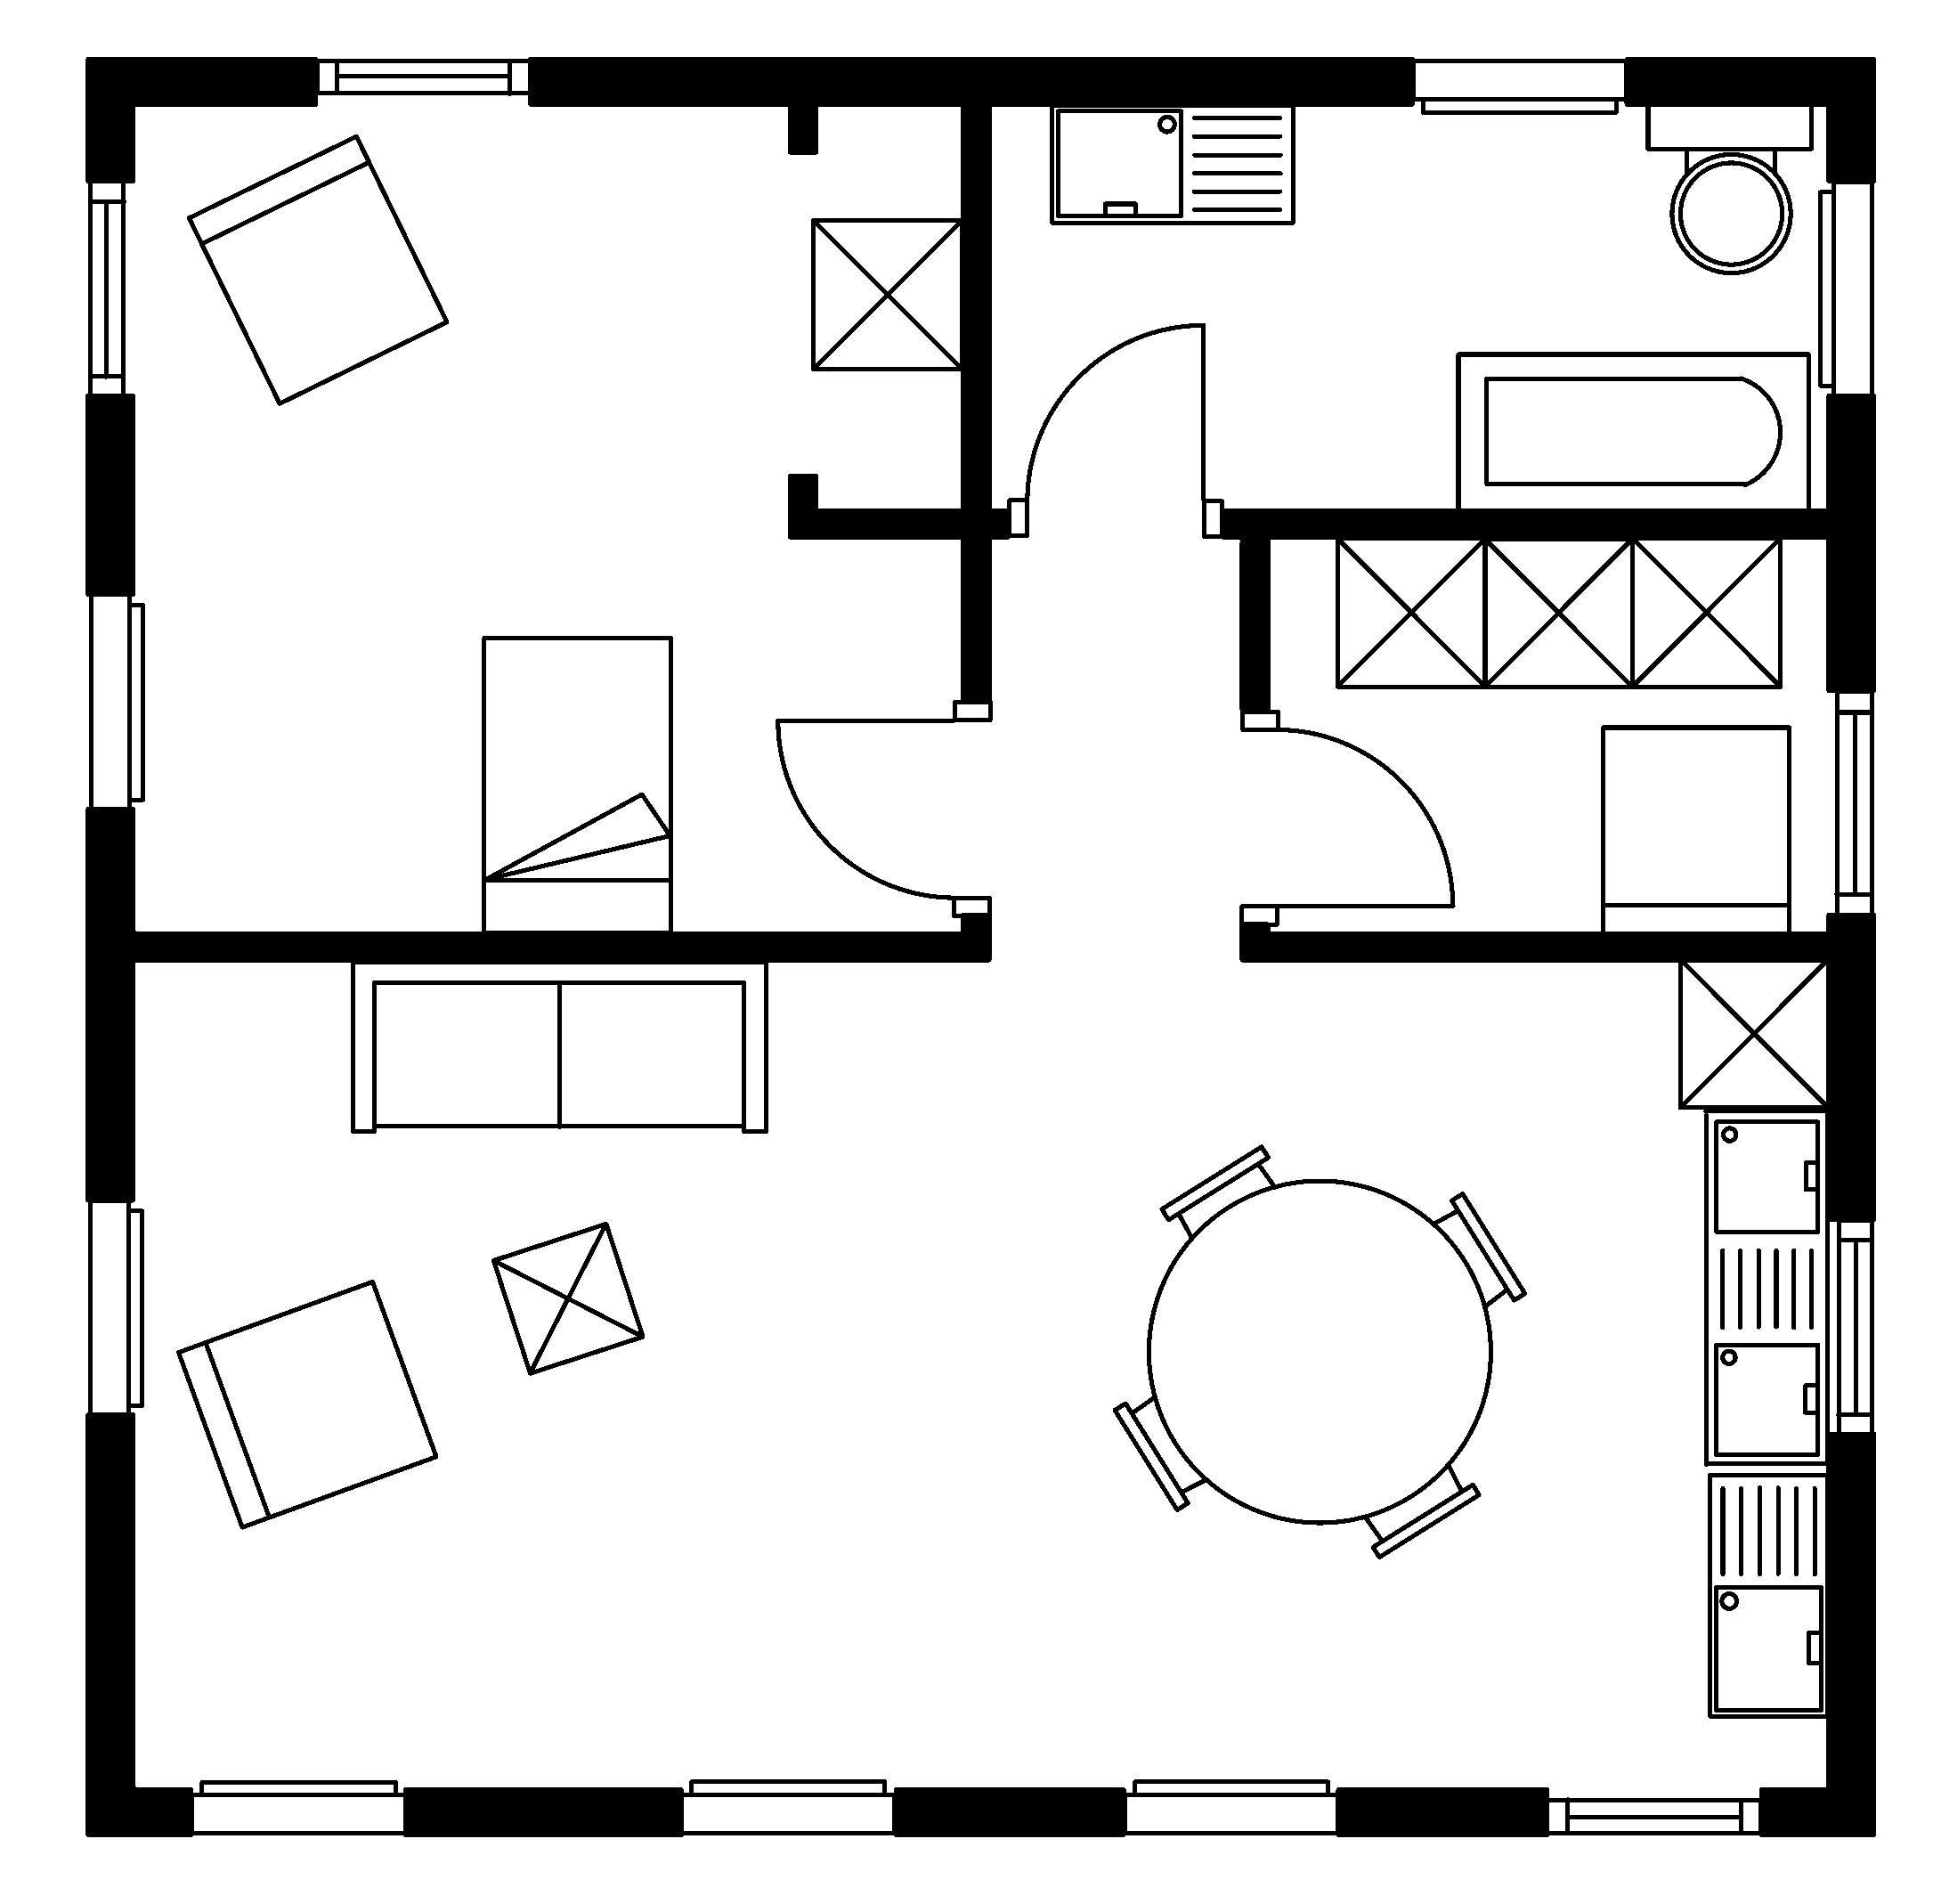bed: (479, 635, 675, 936)
coffee_table: (809, 216, 966, 371), (488, 1221, 645, 1376), (1480, 534, 1635, 689), (1628, 534, 1783, 689), (1333, 534, 1489, 689), (1675, 955, 1830, 1111)
large_sink: (1644, 101, 1814, 274)
large_sofa: (349, 959, 769, 1135)
round_table: (1110, 1142, 1527, 1561)
sink: (1048, 101, 1295, 225), (1706, 1472, 1830, 1719)
small_sofa: (185, 133, 450, 406), (174, 1278, 439, 1529), (1598, 724, 1792, 936)
tub: (1454, 350, 1811, 513)
twin_sink: (1701, 1107, 1830, 1468)
